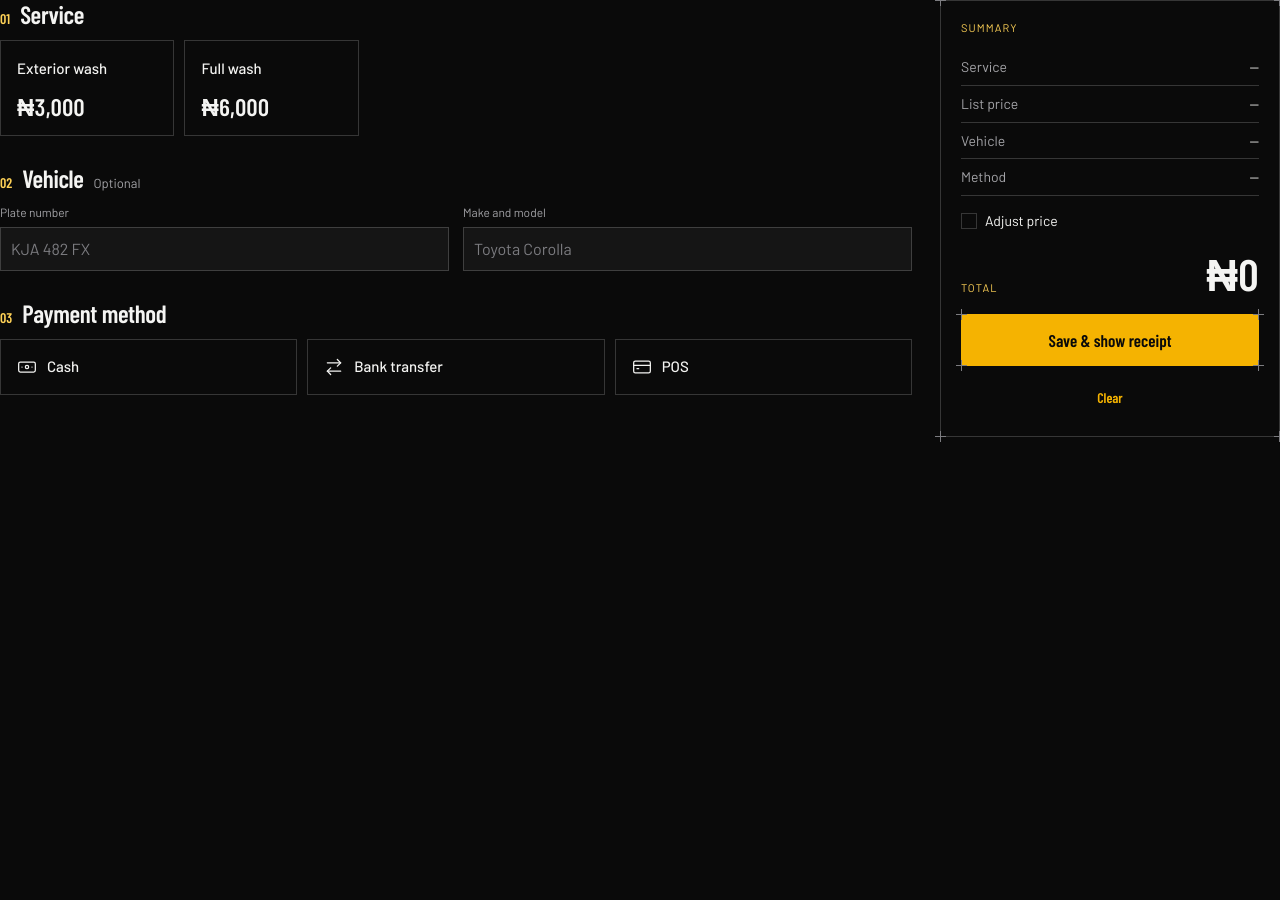
Scenario: NewTransactionForm › records a sale in three taps and opens the receipt
The width and height of the screenshot is (1280, 900).
Step 1. Click the button "Full wash ₦6,000" → point(272, 88), box [184, 40, 359, 136]
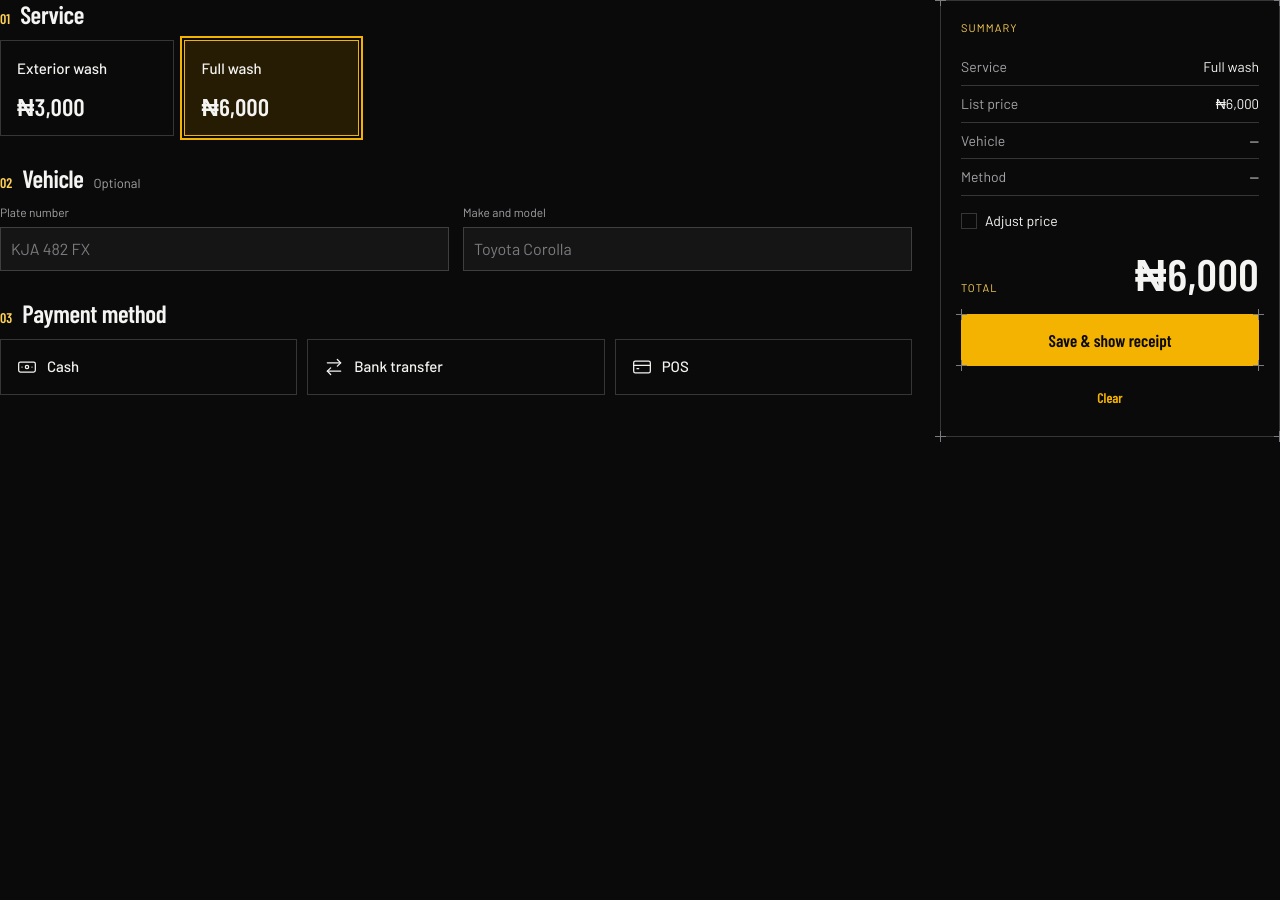
Expected: the button "Full wash ₦6,000" is pressed, [184, 40, 359, 136]
Step 2. Type "kja  482 fx" into the field labelled "Plate number" → point(224, 249), box [0, 227, 449, 271]
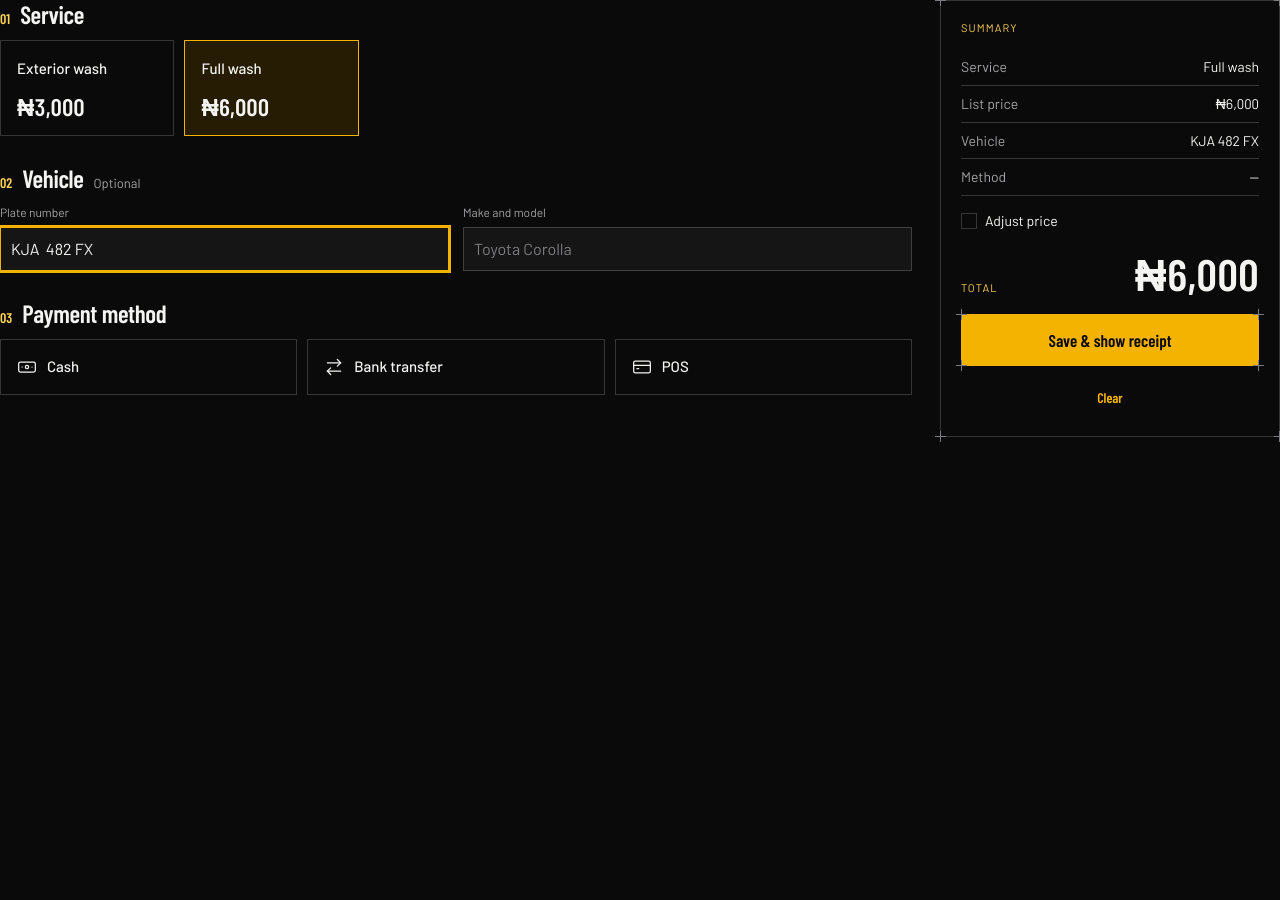
Step 3. Click the button "Cash" → point(63, 366), box [0, 339, 297, 395]
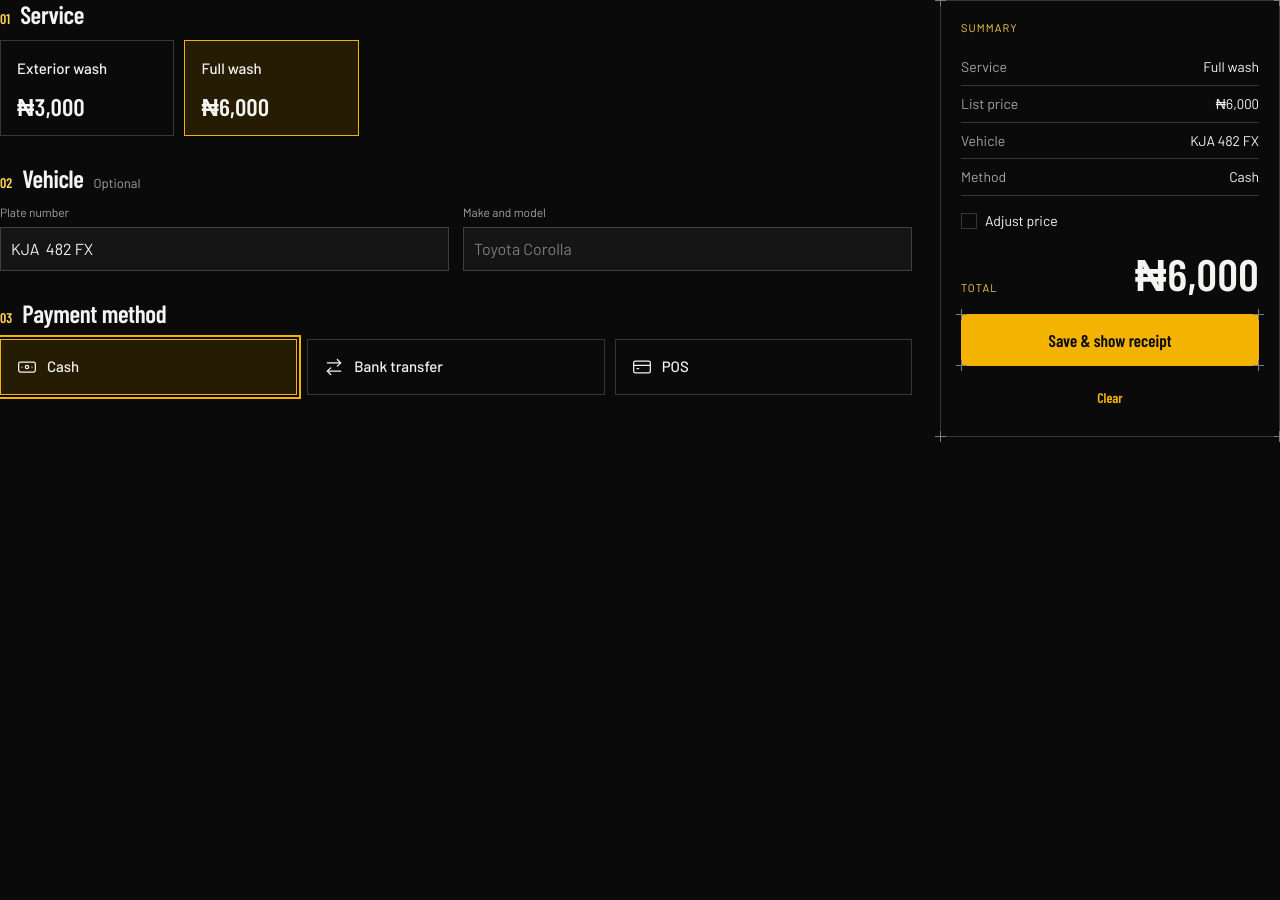
Step 4. Click the button "Save & show receipt" → point(1110, 340), box [961, 314, 1259, 366]
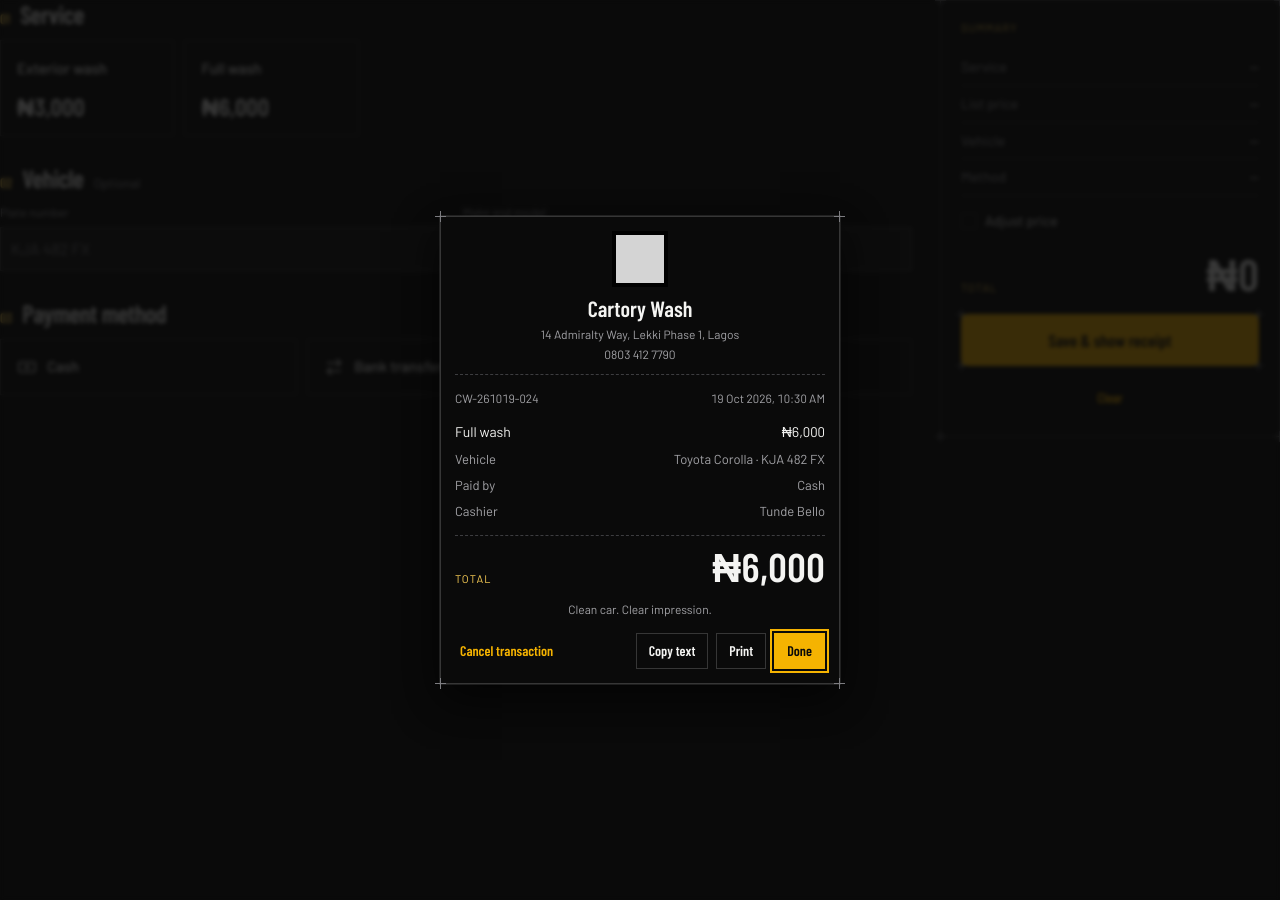
Expected: the text "Cartory Wash" is shown, [588, 295, 692, 322]
